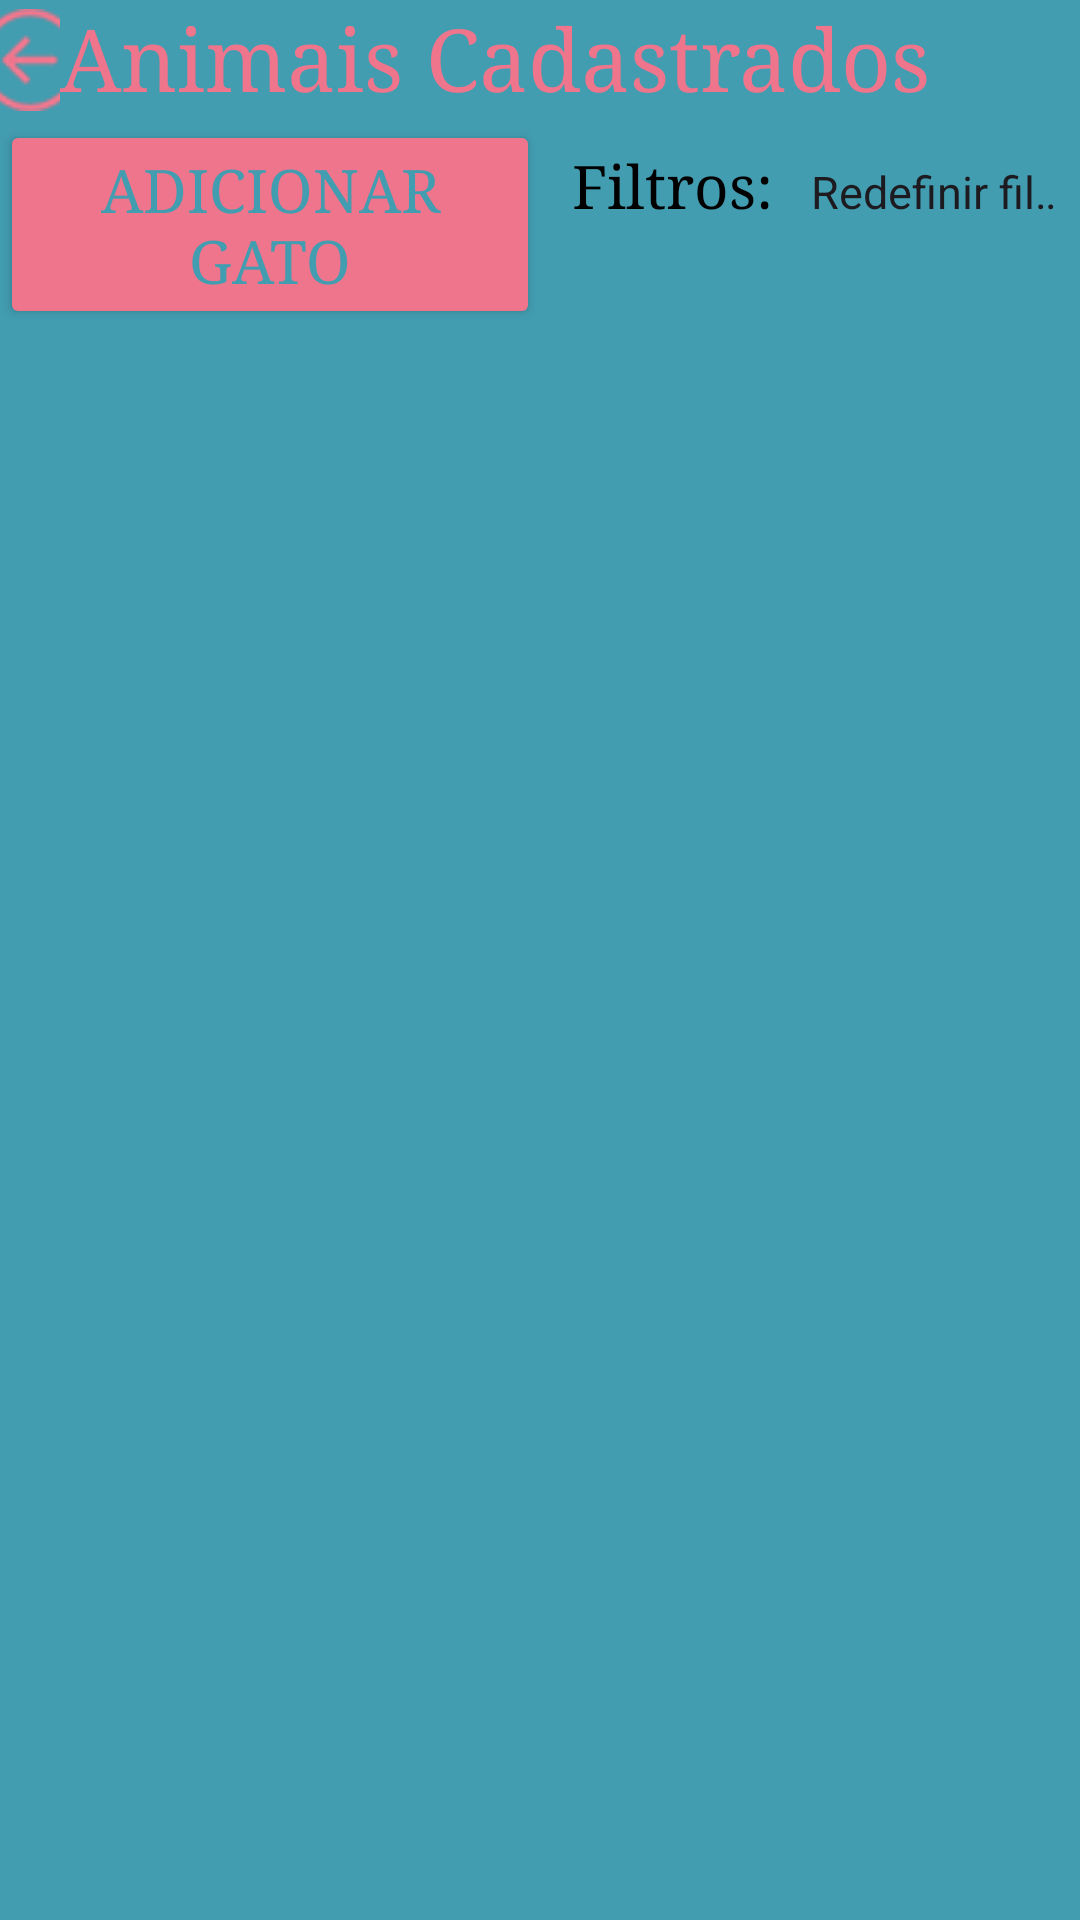

Named icons in this screenshot (1080px x 1920px) and their bounding boxes, box=[x1, y1, x2, y2]:
Home Button: box=[0, 9, 60, 85]
